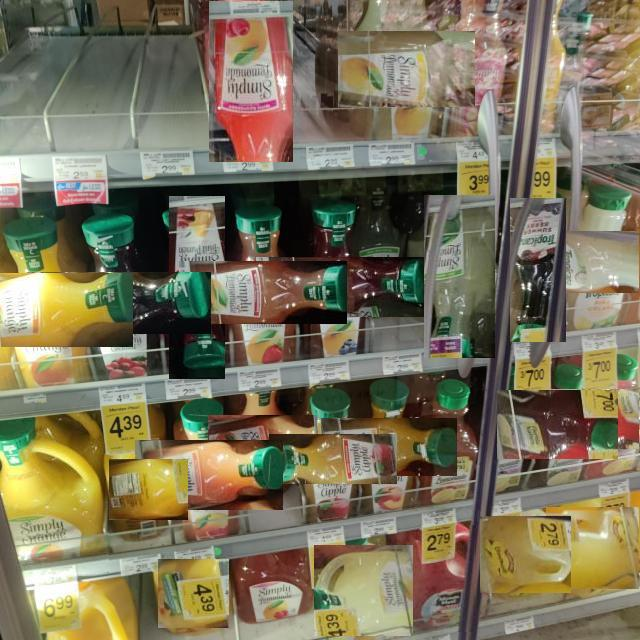Juice: (0, 422, 109, 573), (208, 0, 293, 162), (423, 194, 495, 358), (26, 273, 211, 334), (337, 31, 475, 107), (168, 196, 225, 379), (179, 262, 347, 324), (134, 441, 283, 510), (256, 257, 424, 317), (0, 274, 133, 347), (315, 544, 413, 636), (413, 379, 480, 505), (496, 391, 618, 459), (509, 197, 566, 342), (321, 418, 457, 476), (547, 506, 640, 589), (525, 232, 640, 293), (480, 516, 571, 593), (411, 525, 475, 632), (270, 434, 397, 484), (207, 416, 318, 473), (87, 460, 188, 520), (235, 551, 313, 628), (546, 388, 640, 449), (158, 559, 229, 628)
